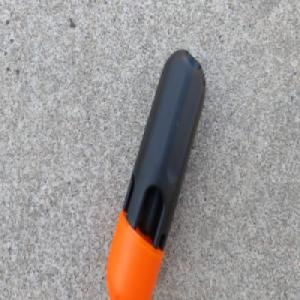PlasticPart: (105, 48, 206, 300)
